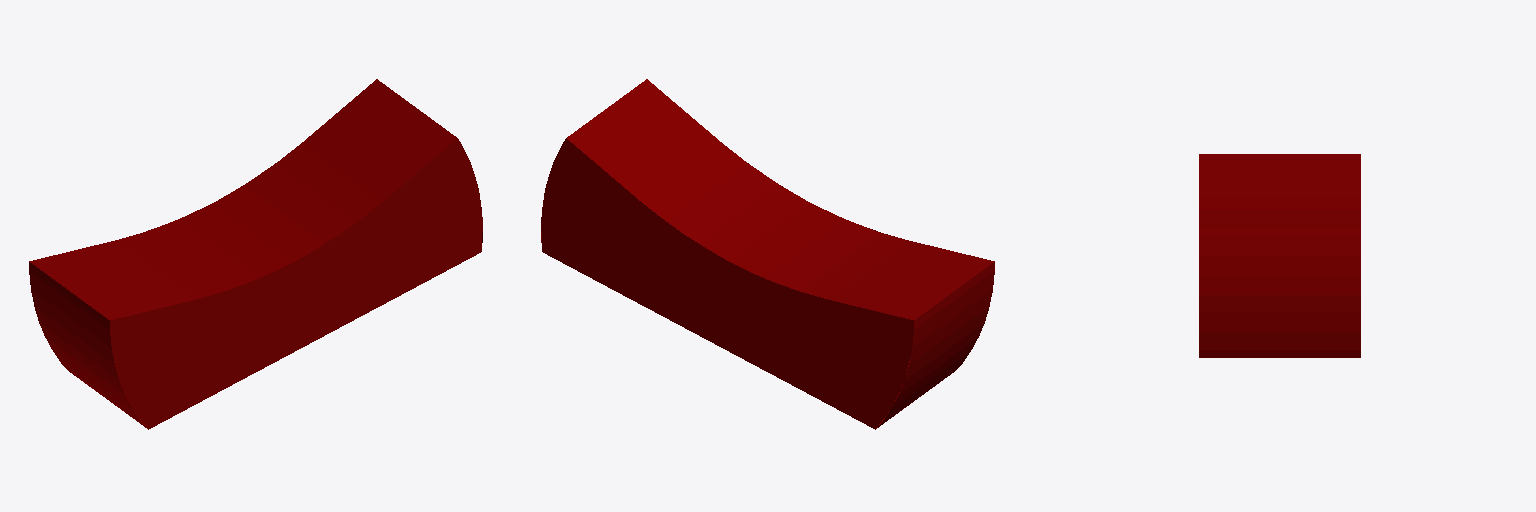
Rendered from button-off.obj.
3 views of the same model, side by side, from view 1: azimuth 30°, elevation 25°; view 2: azimuth 150°, elevation 25°; view 3: azimuth 270°, elevation 25° (orthographic).
Visible parts, largest first — view 1: _DC_Brep; view 2: _DC_Brep; view 3: _DC_Brep.
Part boxes in pixels (x1,y1,x2,y2): _DC_Brep: (29, 79, 482, 429); _DC_Brep: (541, 79, 994, 429); _DC_Brep: (1199, 154, 1360, 357).
Bounding box in the file's own units: 8 × 4.43 × 3.